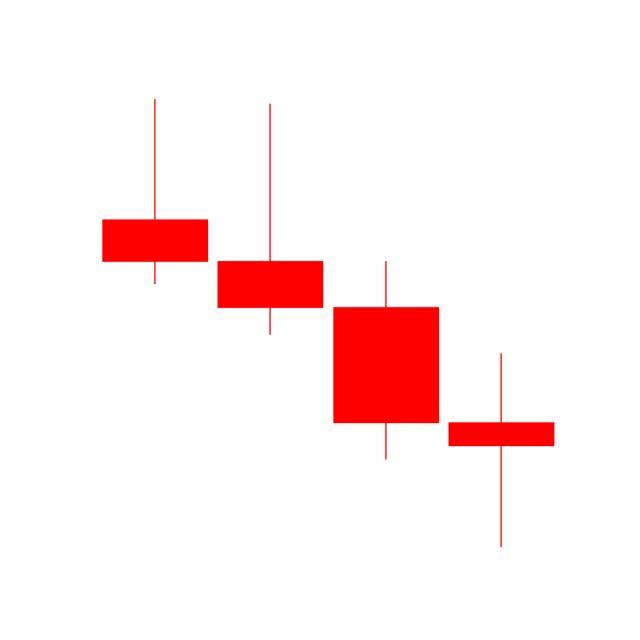Spinning Top: (444, 351, 560, 550)
